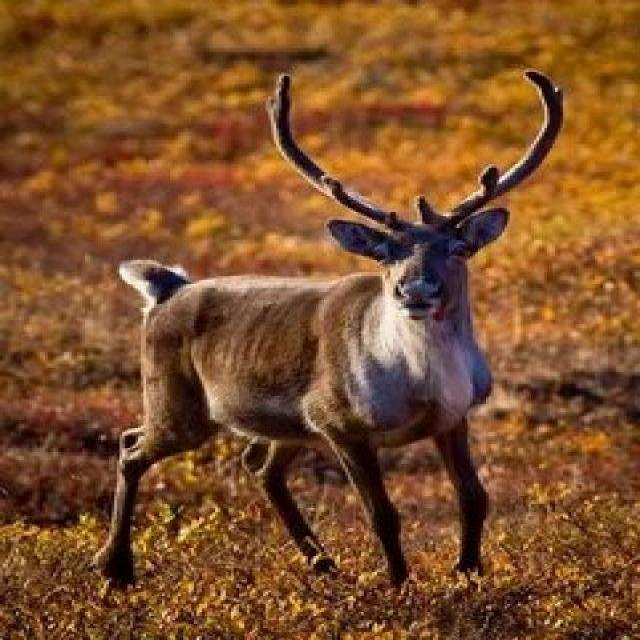deer: (42, 119, 596, 598)
